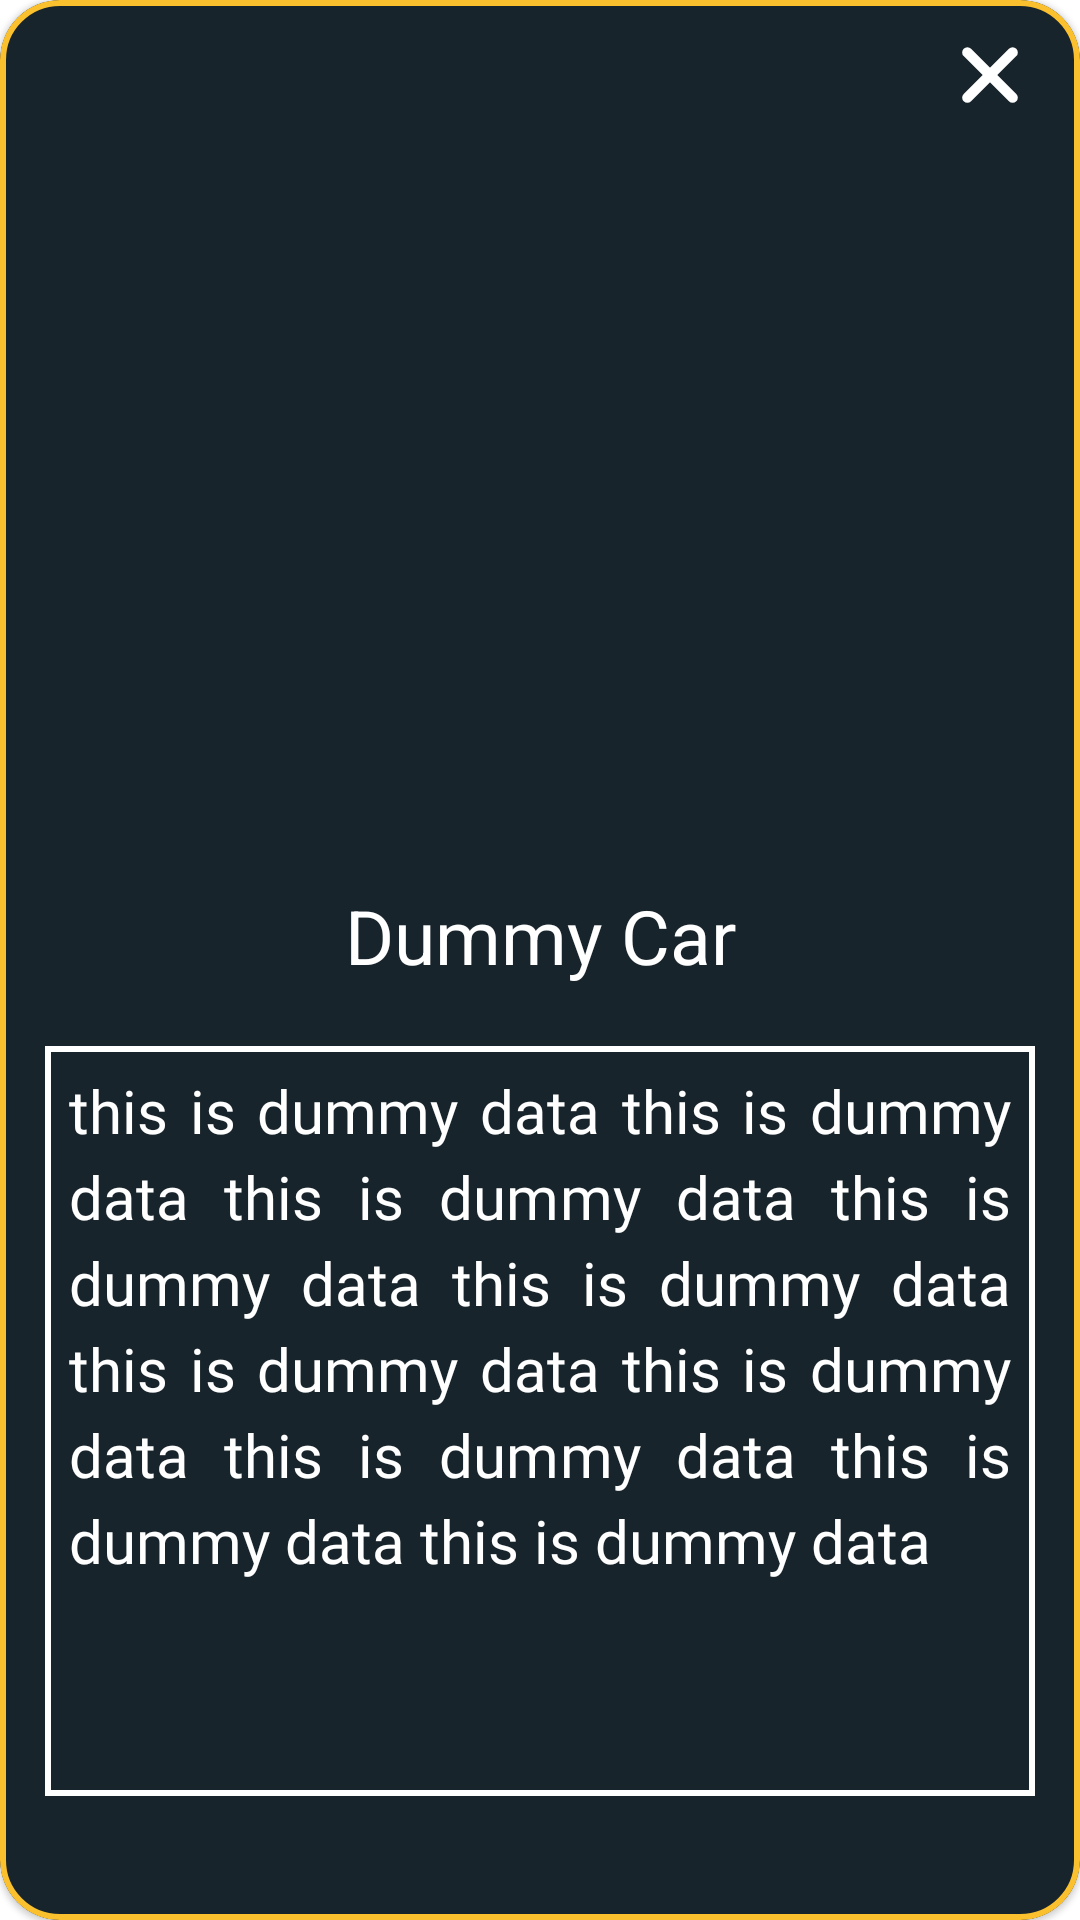

Named icons in this screenshot (1080px×1920px) and their centers, point (x, y):
close: point (990, 75)
